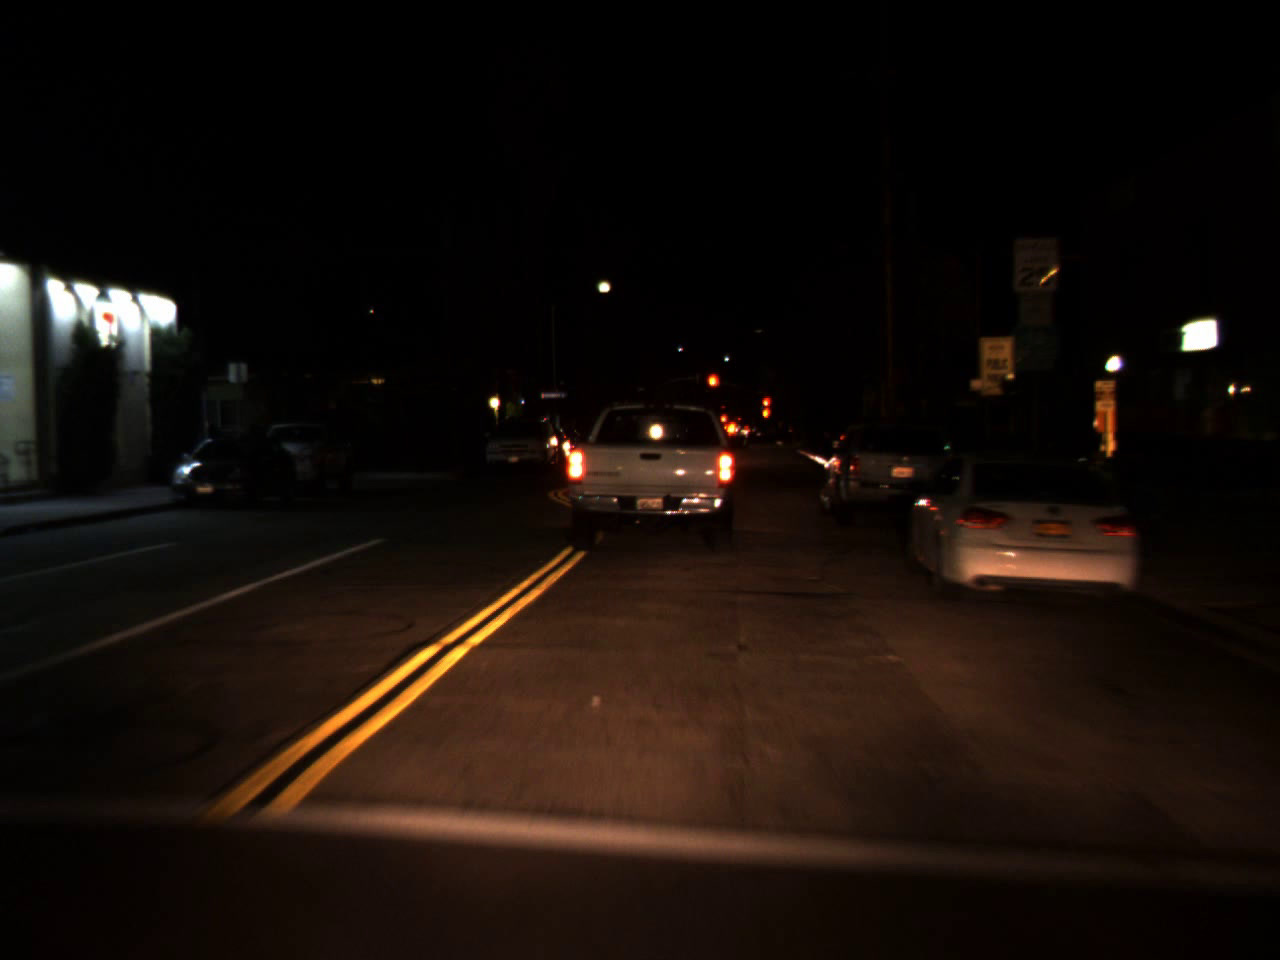stop: (706, 372, 719, 401), (762, 396, 771, 414)
